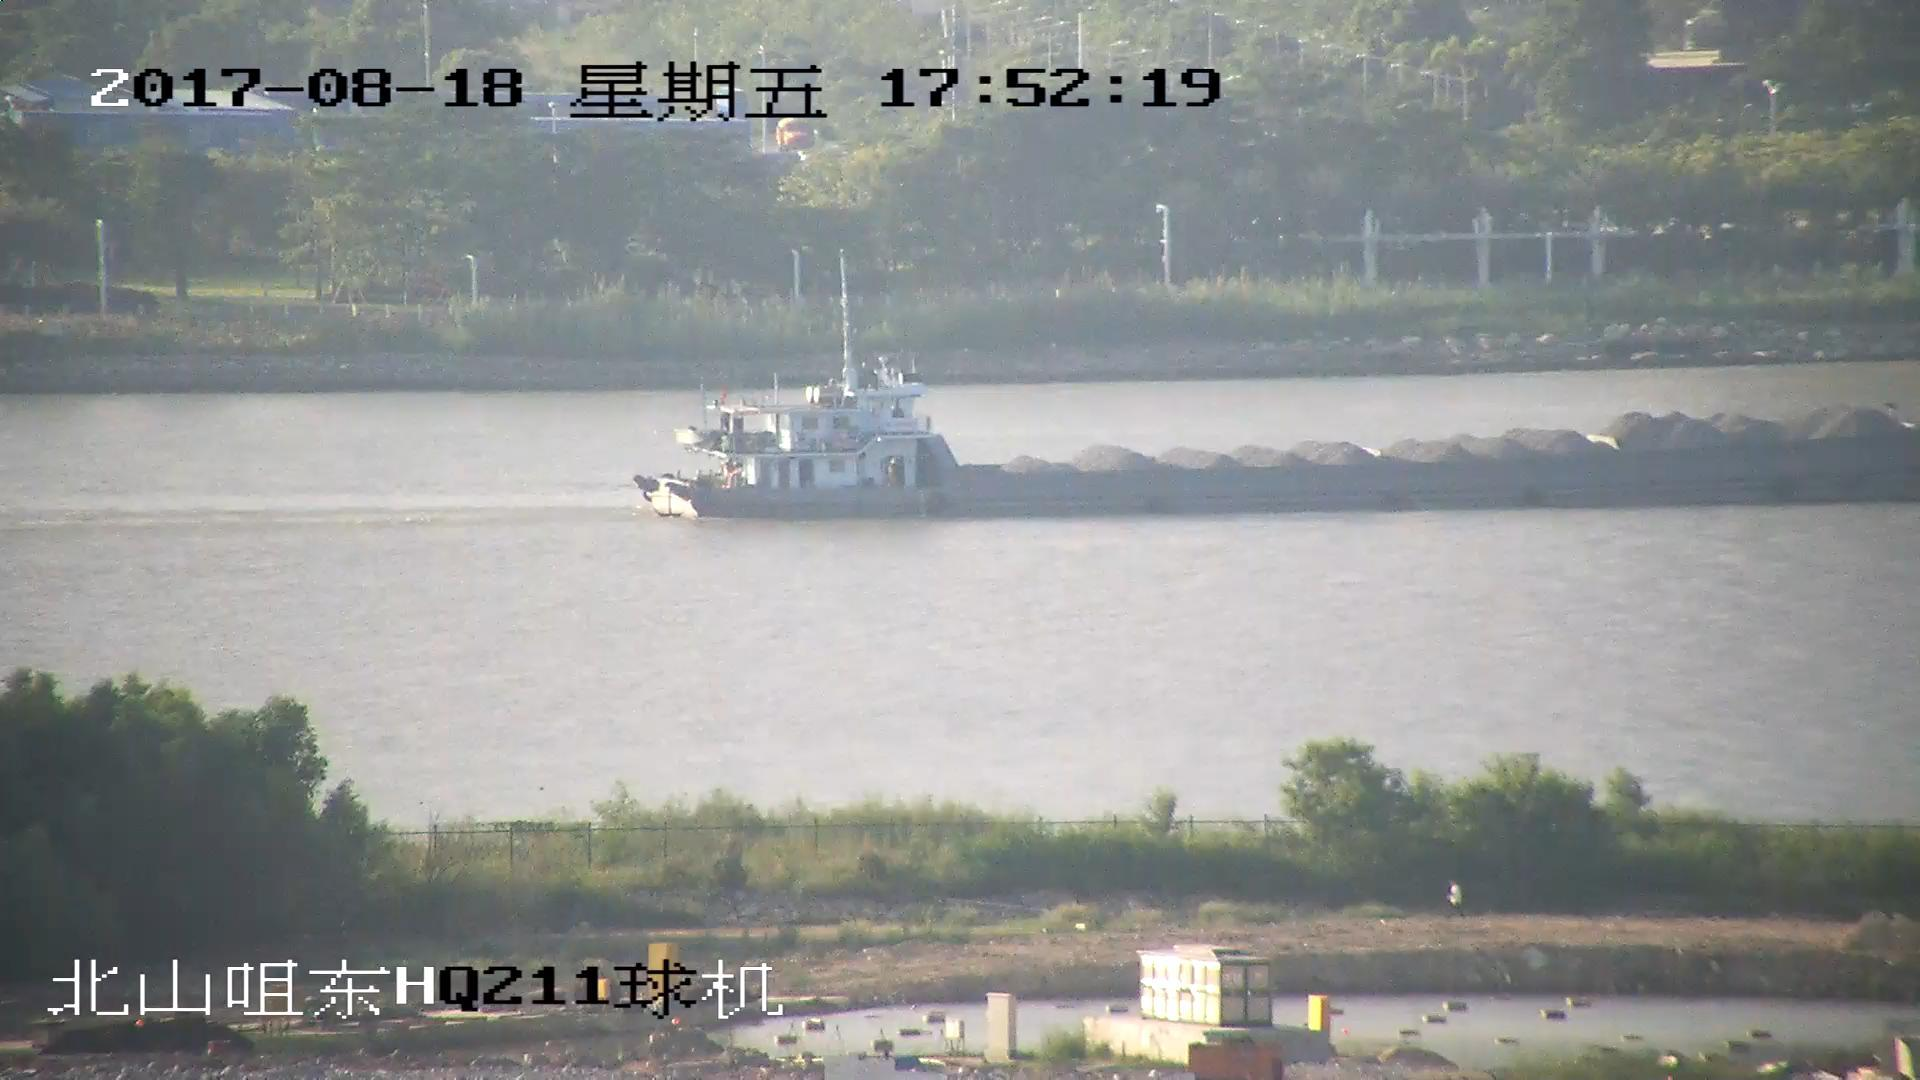Ship: (630, 286, 1920, 522)
